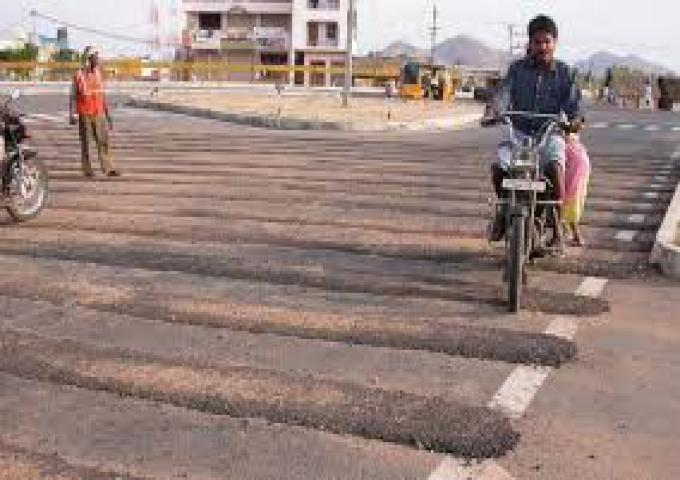speedbreaker: (0, 298, 589, 478), (34, 200, 488, 284)
